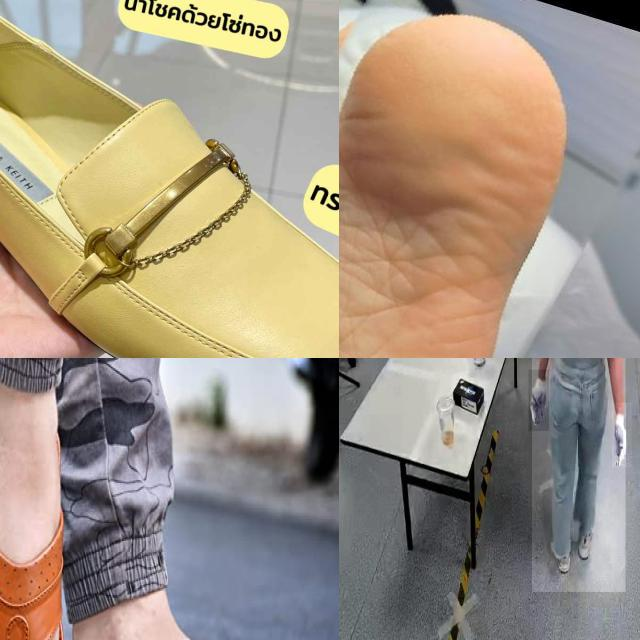Barefoots: (339, 0, 640, 358)
Sandals: (0, 0, 339, 358), (0, 365, 64, 640), (69, 598, 339, 640)
hand_glove: (528, 370, 550, 432), (612, 402, 632, 468)
person: (532, 358, 626, 592)
shoes: (554, 532, 576, 575), (574, 528, 598, 562)
